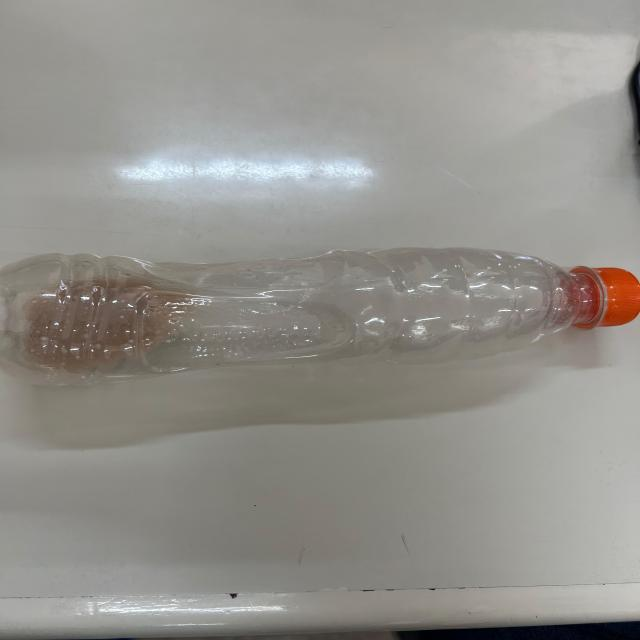inorganic: (0, 253, 640, 387)
